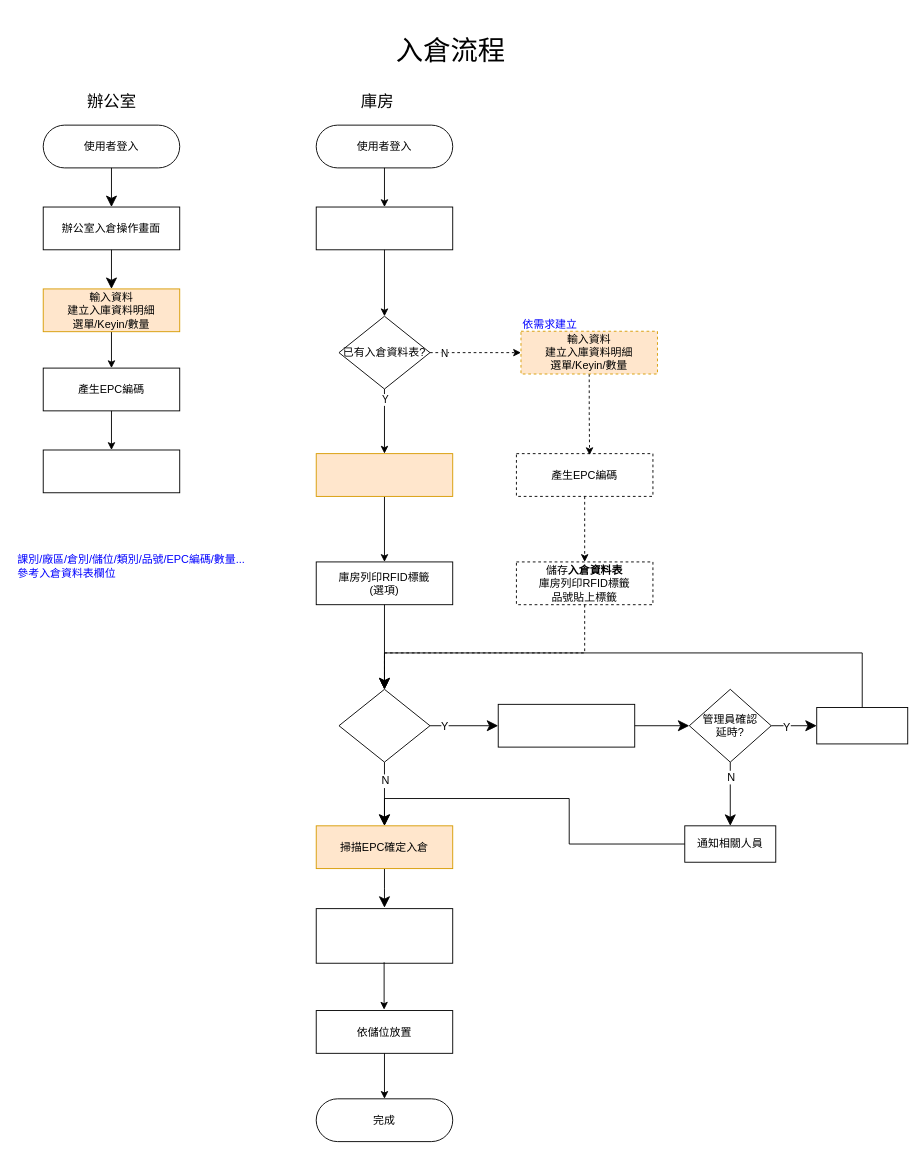
This 924x1158 diagram has some shape labels left out. Each missing label, with the centre of its shape:
儲存 入倉資料表 Office列印RFID標籤 品號貼上標籤: point (111, 471)
入倉資料表轉至庫存表 LOG入倉資料表 刪除入倉資料表紀錄: point (384, 935)
庫房入倉操作畫面: point (384, 228)
延時處理時間?: point (384, 725)
系統警告訊息: point (566, 725)
讀取存 入倉資料表 顯示明細: point (384, 474)
重設時間/ 紀錄更新: point (862, 725)
